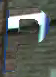Parking: (1, 4, 53, 76)
